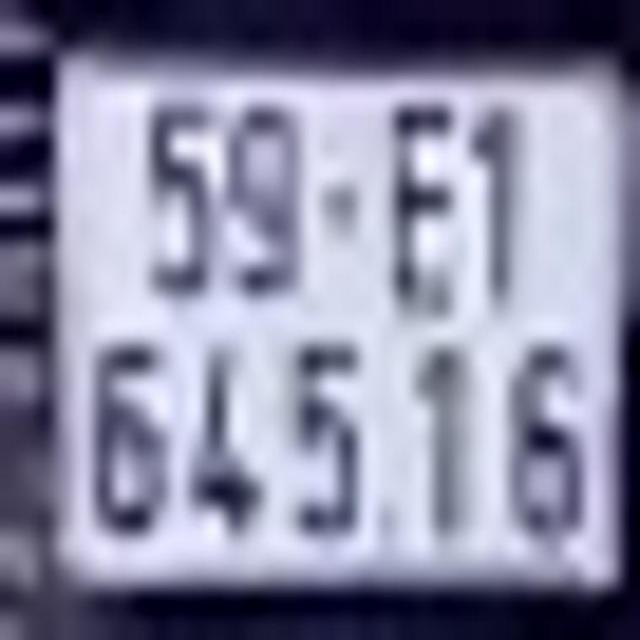1: (414, 338, 462, 538), (468, 96, 512, 303)
4: (190, 338, 261, 532)
5: (148, 92, 211, 295), (295, 336, 356, 531)
6: (497, 335, 594, 531), (96, 329, 171, 538)
9: (230, 104, 304, 298)
F: (396, 100, 462, 302)
